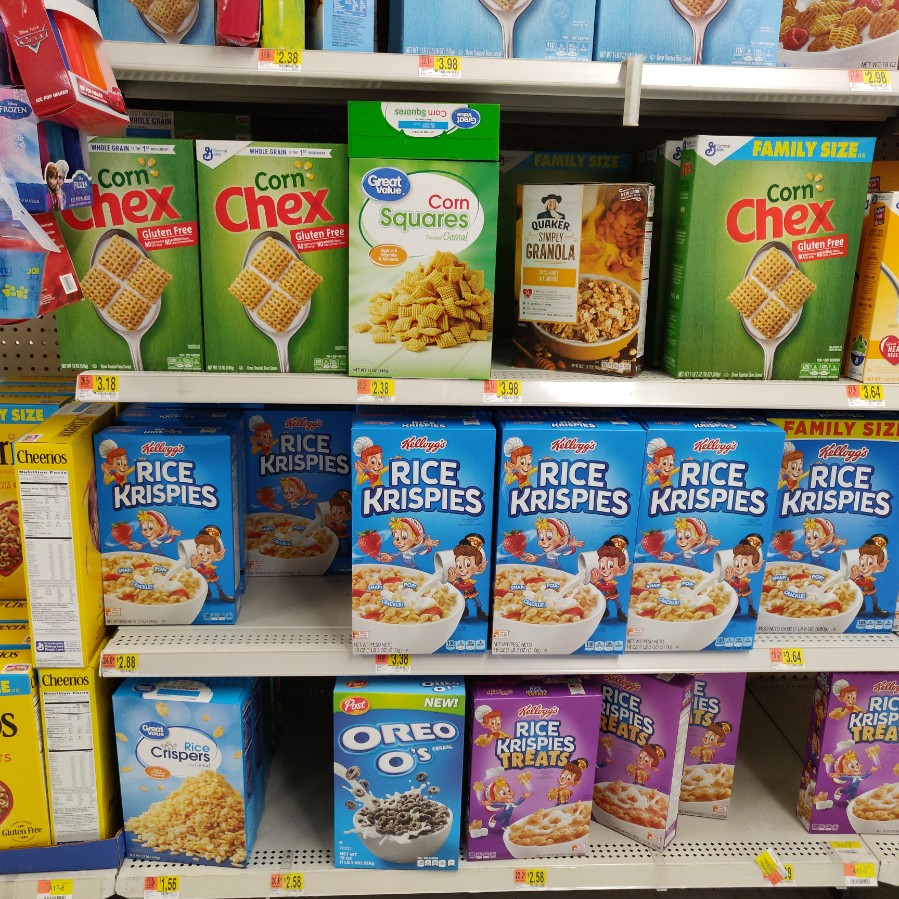Oreo-563424384: (327, 684, 471, 868)
